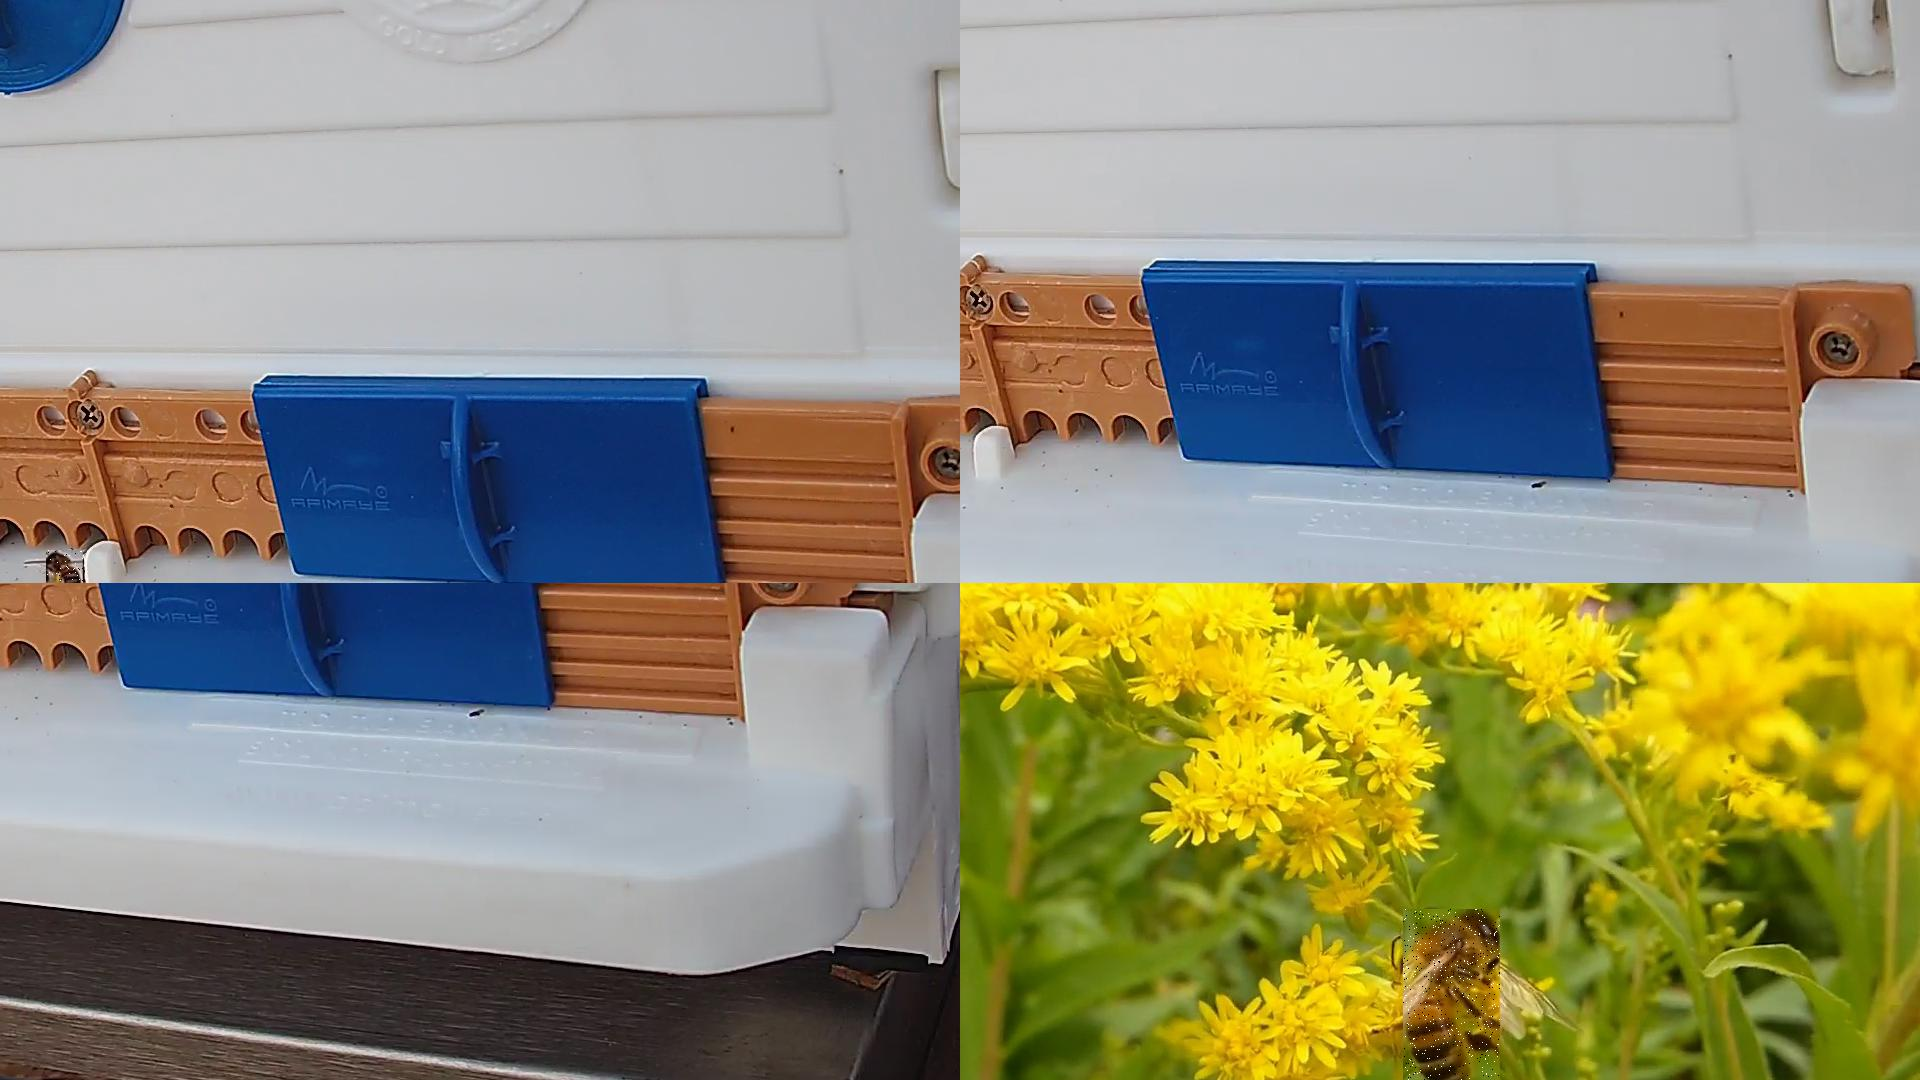bee: (1403, 909, 1502, 1079)
pollenbee: (46, 550, 84, 582)
